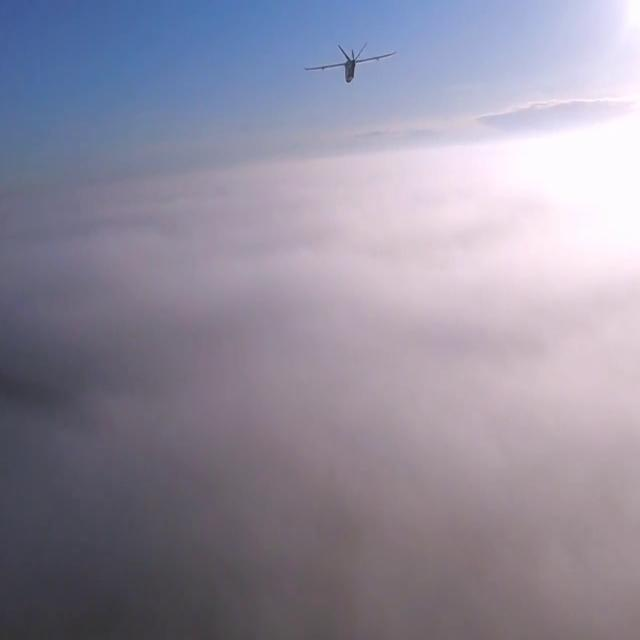iha: (337, 0, 365, 20)
